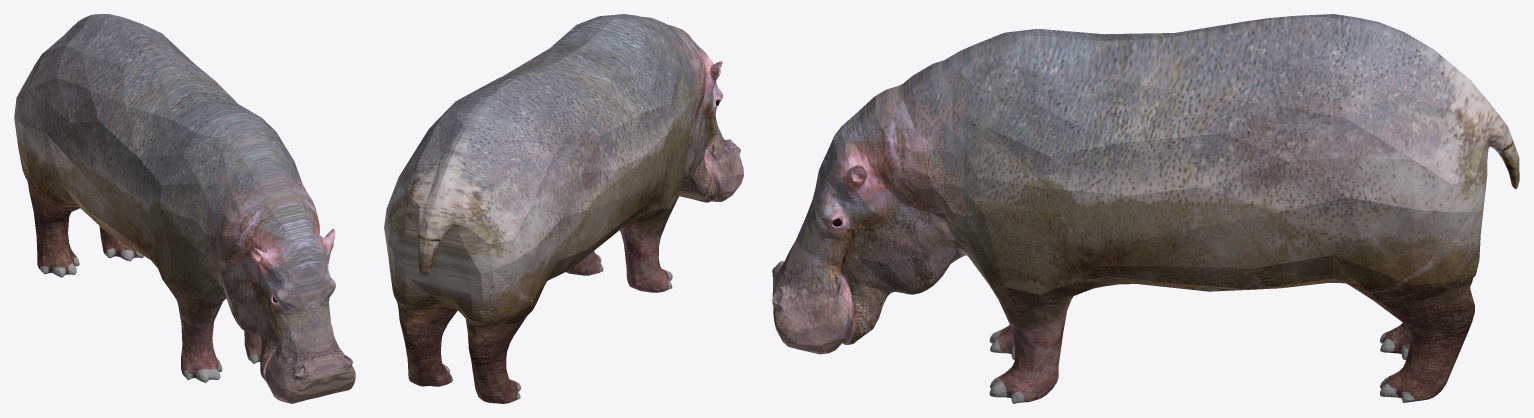
The model's file is shipopotamo01.glb.
3 views of the same model, side by side, from view 1: azimuth 30°, elevation 25°; view 2: azimuth 150°, elevation 25°; view 3: azimuth 270°, elevation 25° (orthographic). The views are drawn at different scales.
Parts seen in each view (by area): view 1: IGQNIY07K39W0VWEKD3TZYJPK; view 2: IGQNIY07K39W0VWEKD3TZYJPK; view 3: IGQNIY07K39W0VWEKD3TZYJPK.
Part boxes in pixels (x1,y1,x2,y2): IGQNIY07K39W0VWEKD3TZYJPK: (14,14,355,403); IGQNIY07K39W0VWEKD3TZYJPK: (384,14,743,403); IGQNIY07K39W0VWEKD3TZYJPK: (772,14,1519,403).
Bounding box in the file's own units: 0.8451 × 1.53 × 2.93.
Materials: 5 (5 with a texture image).
